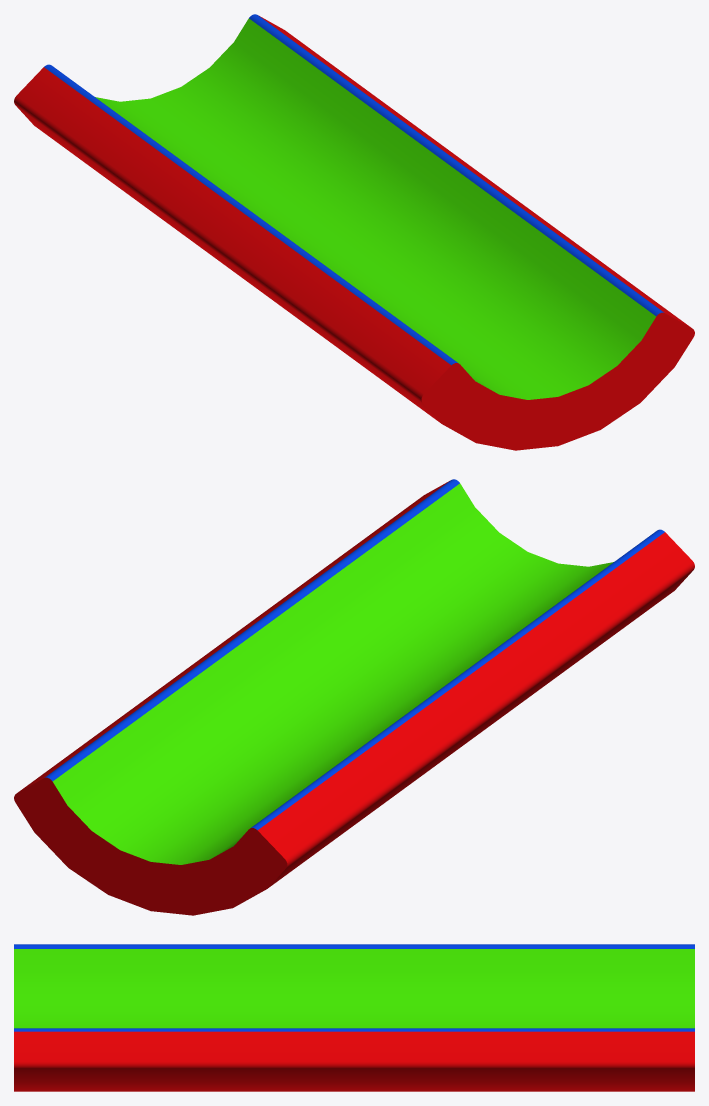
The model's file is Kaydirak.fbx.
3 views of the same model, one above another, from view 1: azimuth 30°, elevation 25°; view 2: azimuth 150°, elevation 25°; view 3: azimuth 270°, elevation 25° (orthographic). The views are drawn at different scales.
Parts seen in each view (by area): view 1: Kaydirak; view 2: Kaydirak; view 3: Kaydirak.
Boxes of the visible parts, <box> form: Kaydirak: <box>14,14,694,450</box>; Kaydirak: <box>14,479,694,915</box>; Kaydirak: <box>14,944,694,1091</box>.
Bounding box in the file's own units: 697 × 264 × 1800.
